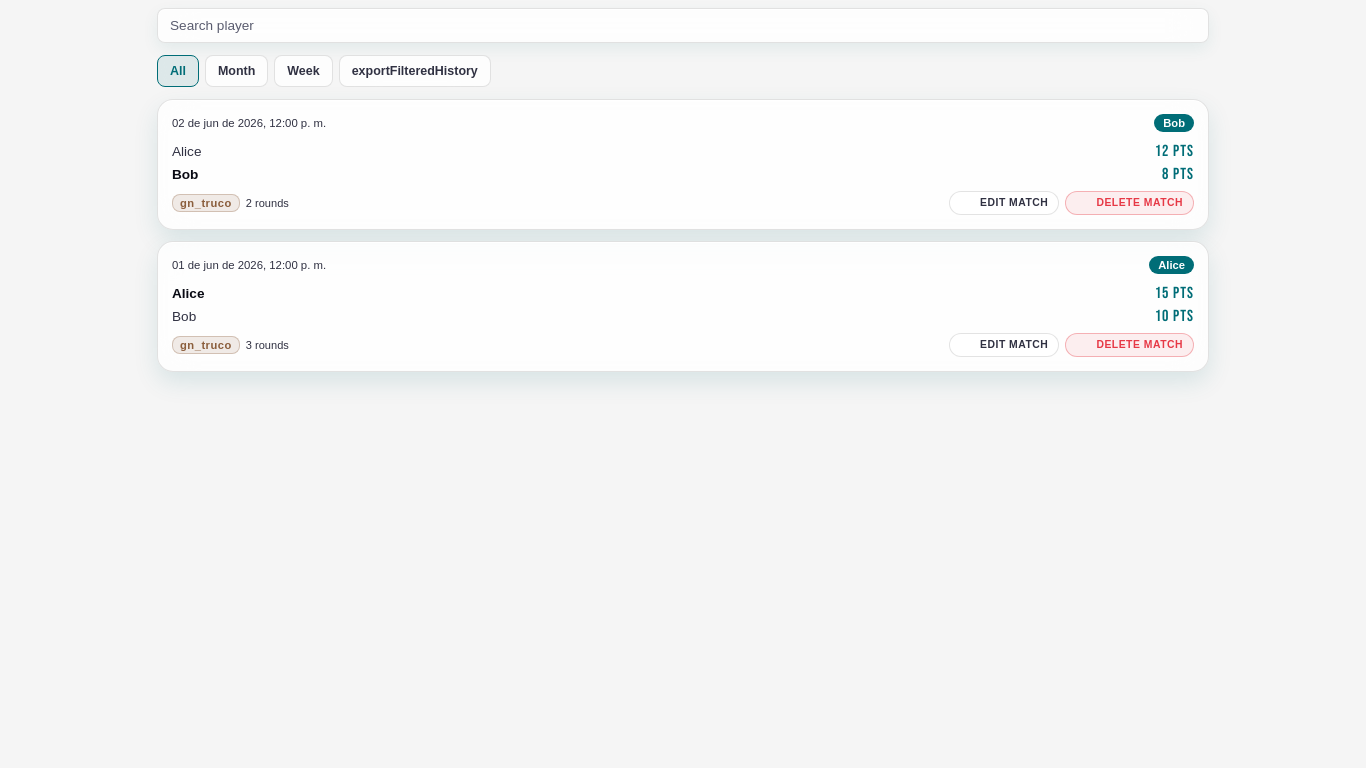
Test case: GlobalHistoryPage › undo delete (T3) › shows confirm modal then shows undo toast on confirm
Click the button with test id "delete-match-m1": coordinates (1130, 345) 1065,333 -> 1194,357
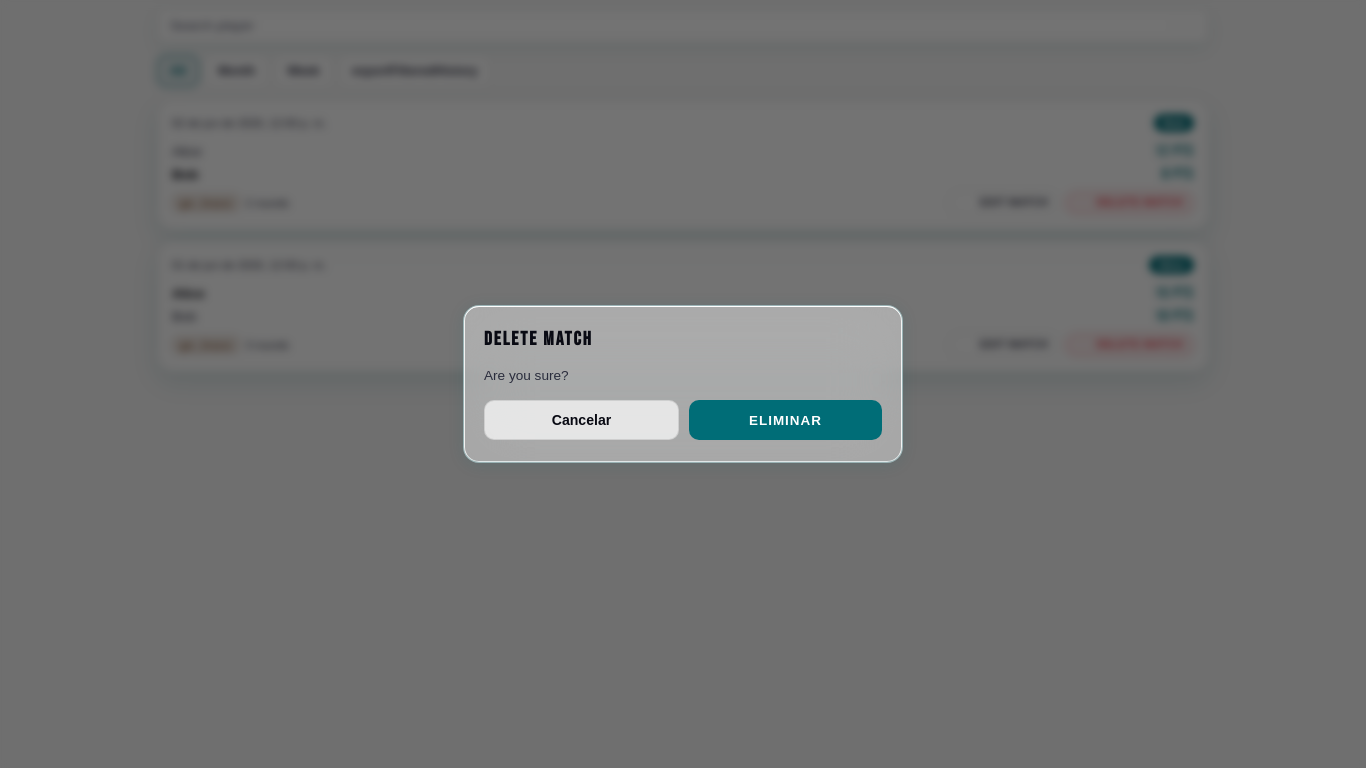
Expected: the text "Are you sure?" is shown, 484,368 -> 569,383
Click the button "Eliminar": coordinates (786, 420) 689,400 -> 882,440
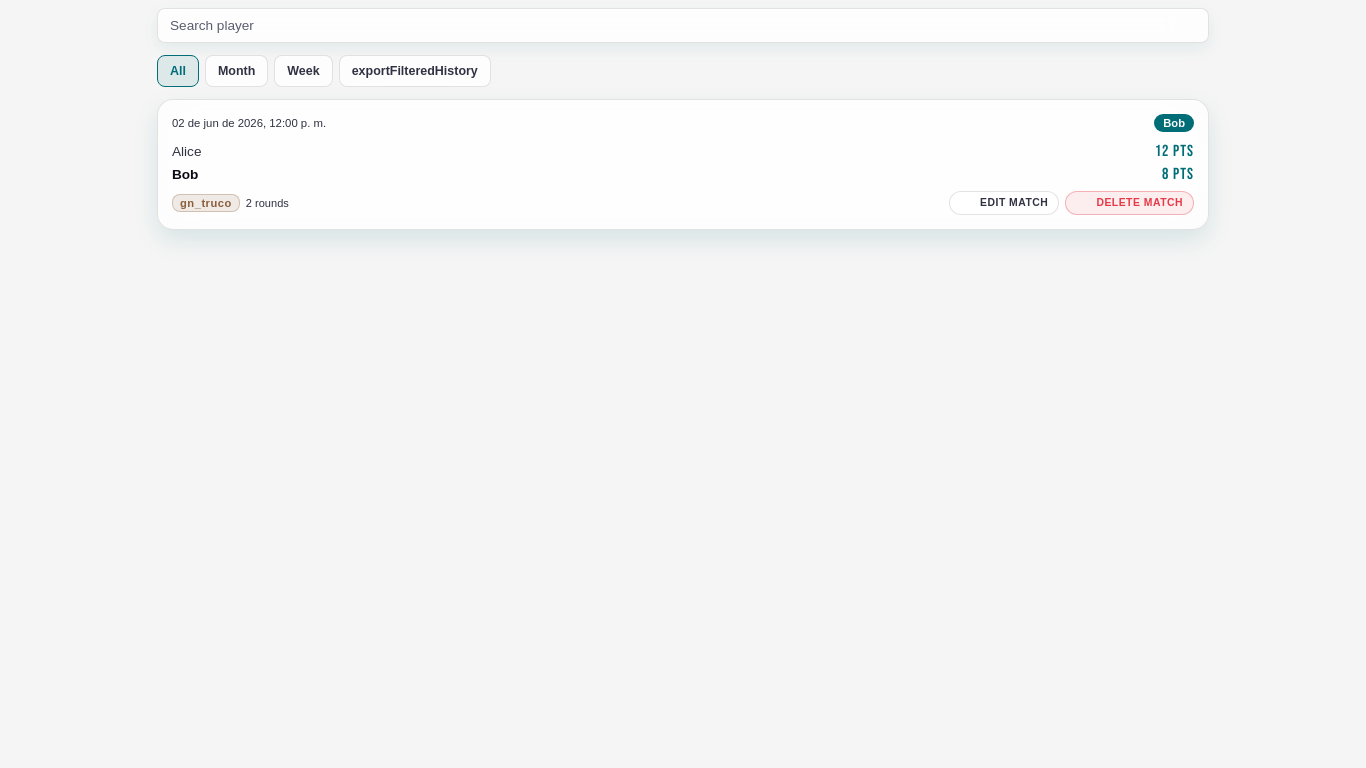
Expected: the element with test id "match-m1" is gone
